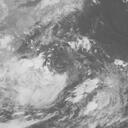cyclone: (37, 41, 91, 99)
